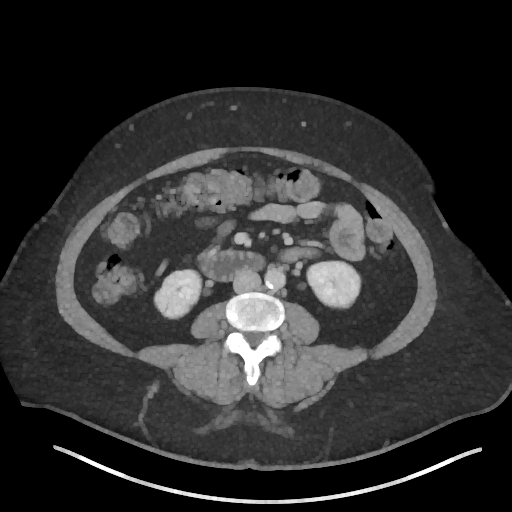Lesion: (161, 305, 169, 313)
